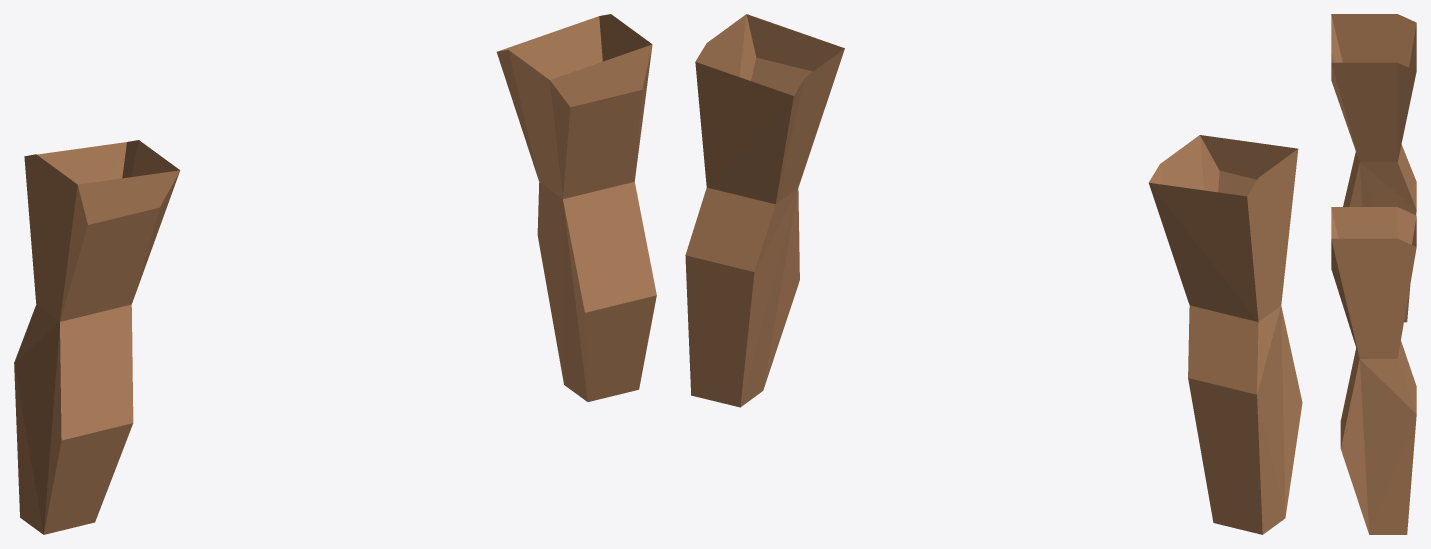
File: model_337_npc.obj
3 renders of one model, left to right at view 1: azimuth 30°, elevation 25°; view 2: azimuth 150°, elevation 25°; view 3: azimuth 270°, elevation 25°, orthographic. The views are drawn at different scales.
Parts seen in each view (by area): view 1: 337; view 2: 337; view 3: 337.
Boxes of the visible parts, x1=… form: 337: x1=14, y1=14, x2=656, y2=534; 337: x1=685, y1=14, x2=1302, y2=534; 337: x1=1331, y1=14, x2=1416, y2=534.
Size of the model in its own units: 58 by 34 by 9.
